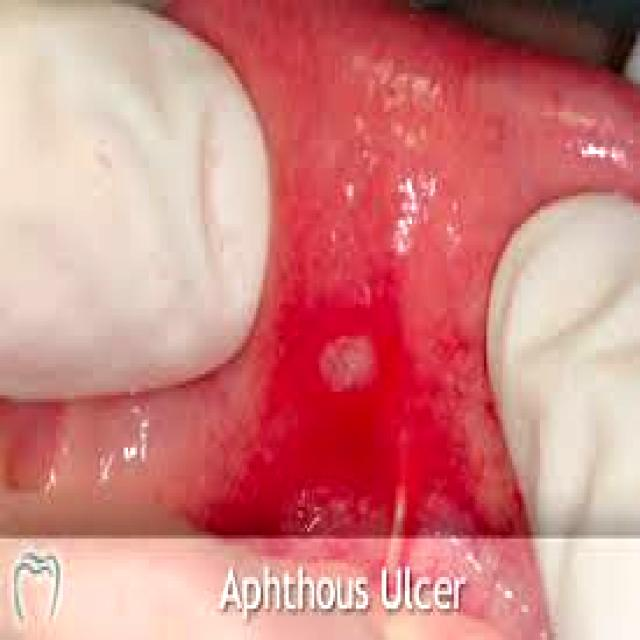ulcer: (317, 336, 372, 388)
